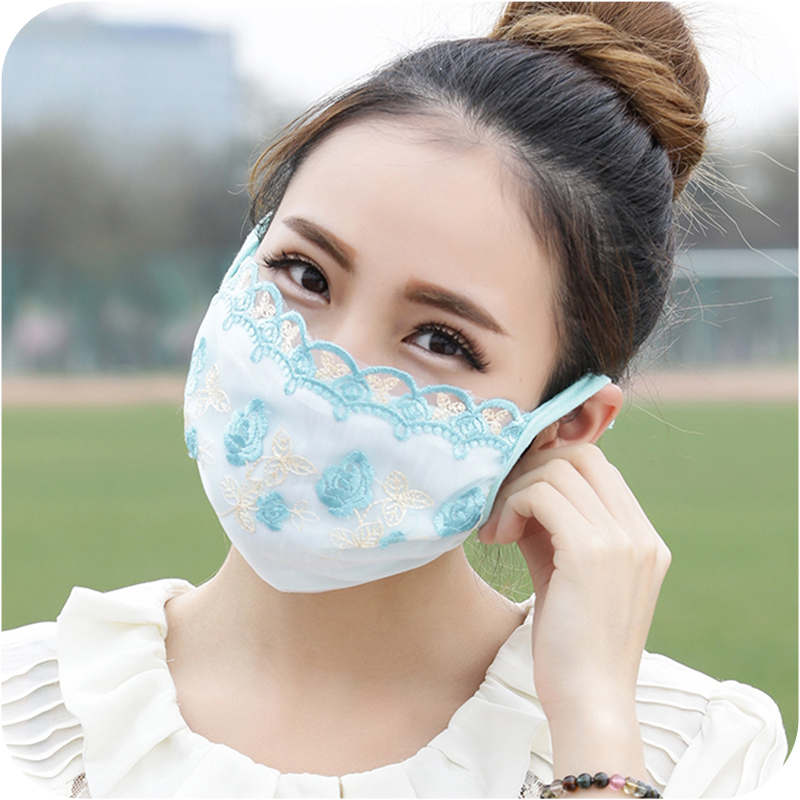face_mask: (184, 137, 549, 595)
